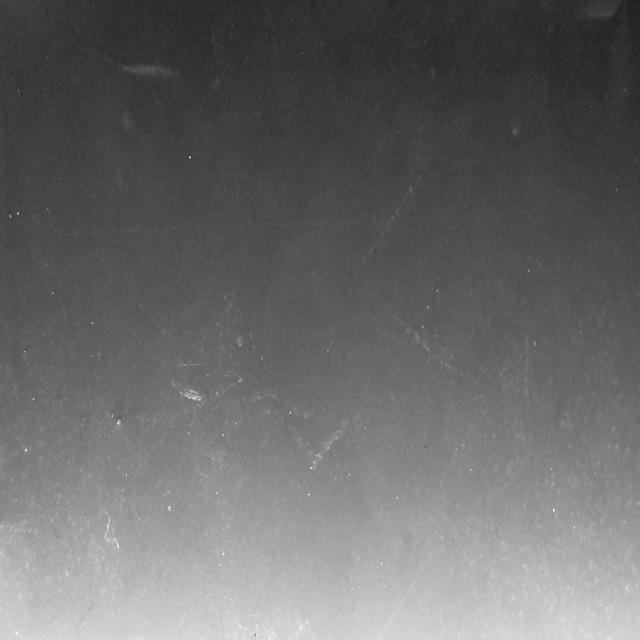beta: (348, 141, 436, 303), (384, 302, 472, 384), (372, 560, 429, 640), (210, 356, 290, 401), (100, 510, 122, 550), (0, 520, 43, 539), (286, 617, 316, 640)
